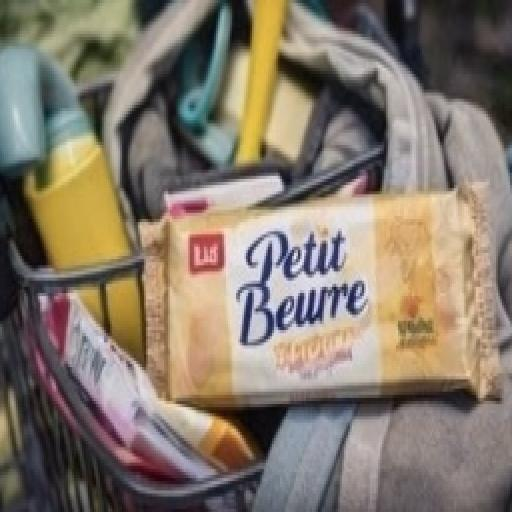petit_beurre: (118, 142, 512, 450)
